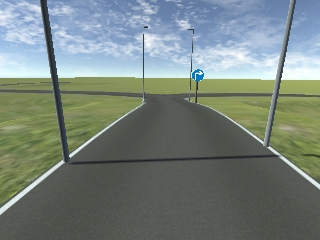right: (191, 70, 204, 81)
